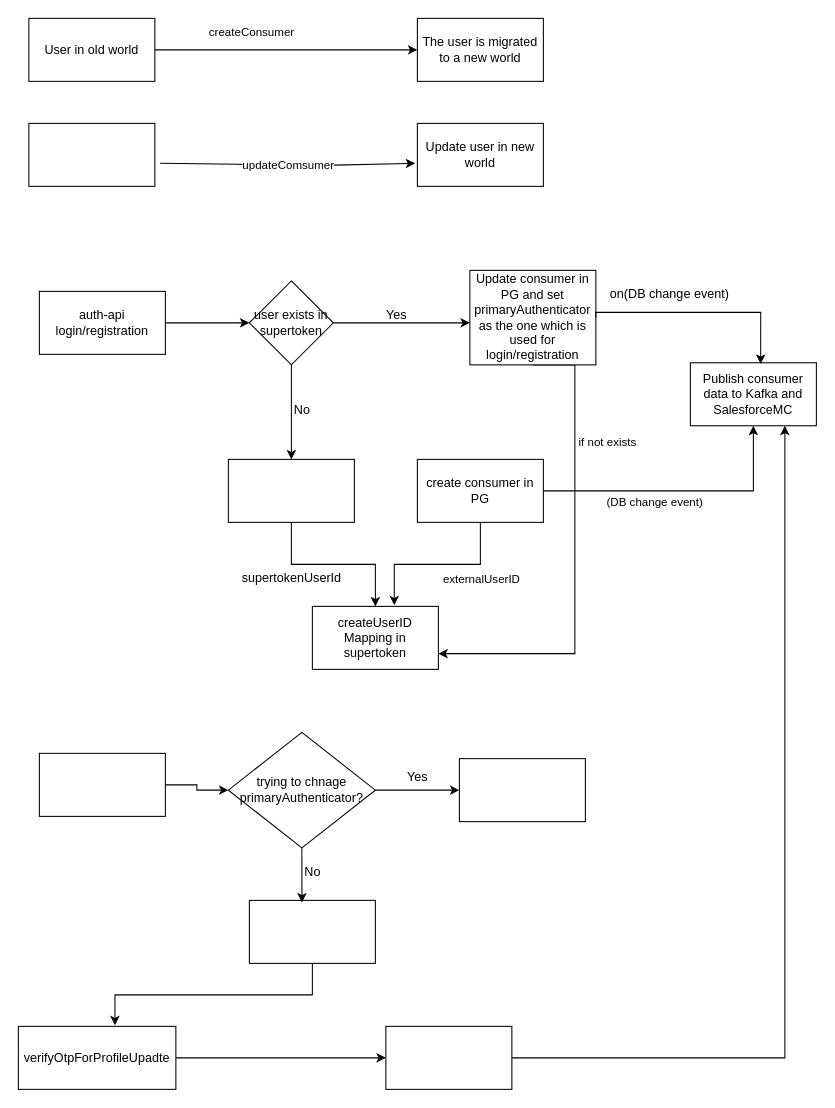
Image size: 835x1108. Some labels were removed from this diagram. The centre of each missing label's shape, as x and y in pixels:
"create a new consumer in supertoken" belongs at point 290,490.
"Send otp to verify the new contact details (phone/email)" belongs at point 311,931.
"Throw an error (can not chnage the primary authenticator)" belongs at point 521,790.
"upadateProfileDetails" belongs at point 101,784.
"updateConsumer in PG" belongs at point 448,1057.
"User updated in old world" belongs at point 91,154.
